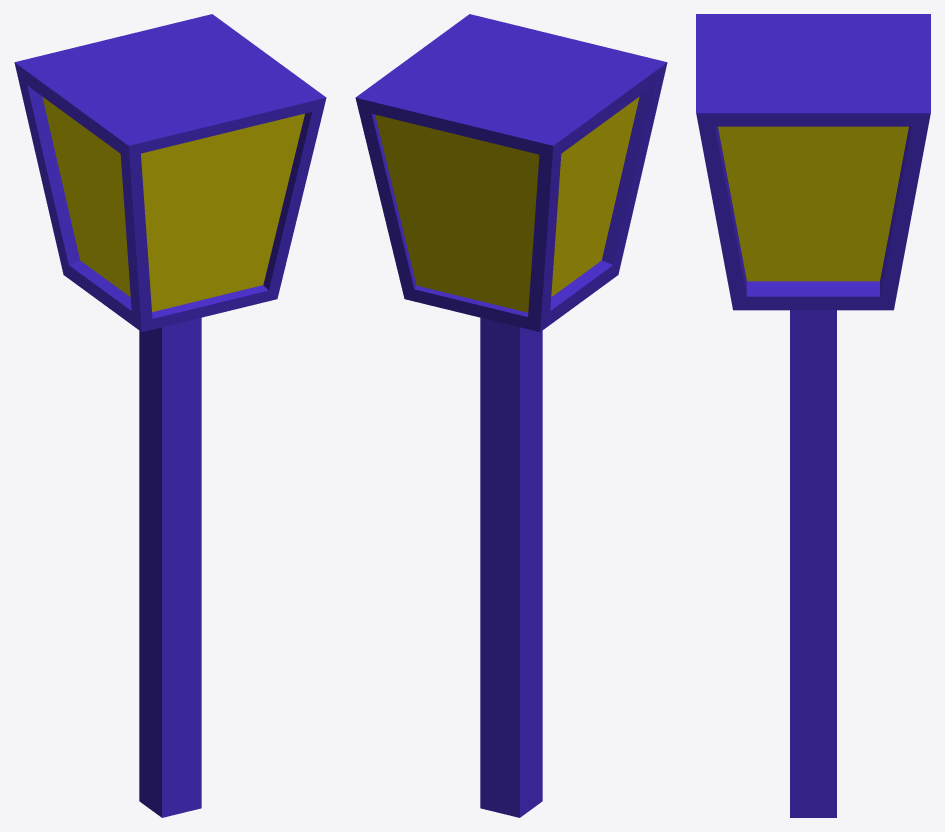
The model's file is lamp_post.fbx.
The picture shows the model from 3 angles, left to right: view 1: azimuth 30°, elevation 25°; view 2: azimuth 150°, elevation 25°; view 3: azimuth 270°, elevation 25°; orthographic projection. The views are drawn at different scales.
Parts seen in each view (by area): view 1: Light, Pole; view 2: Light, Pole; view 3: Light, Pole.
Boxes of the visible parts, x1,y1,x2,y2 form: Light: (14, 14, 326, 331); Pole: (139, 317, 201, 817); Light: (355, 14, 667, 331); Pole: (480, 317, 542, 817); Light: (696, 14, 930, 310); Pole: (790, 310, 836, 817).
Size of the model in its own units: 100 by 350 by 100.
